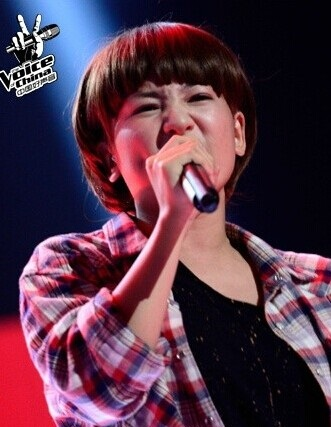face: (116, 48, 232, 219)
